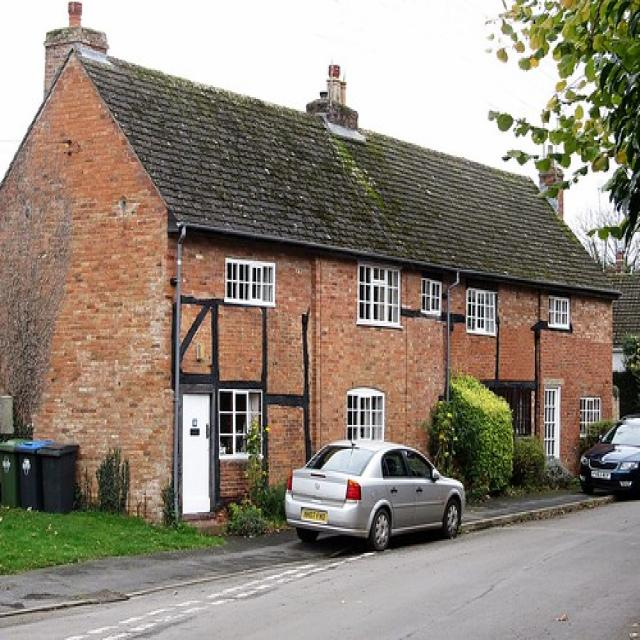building: (2, 38, 623, 537)
